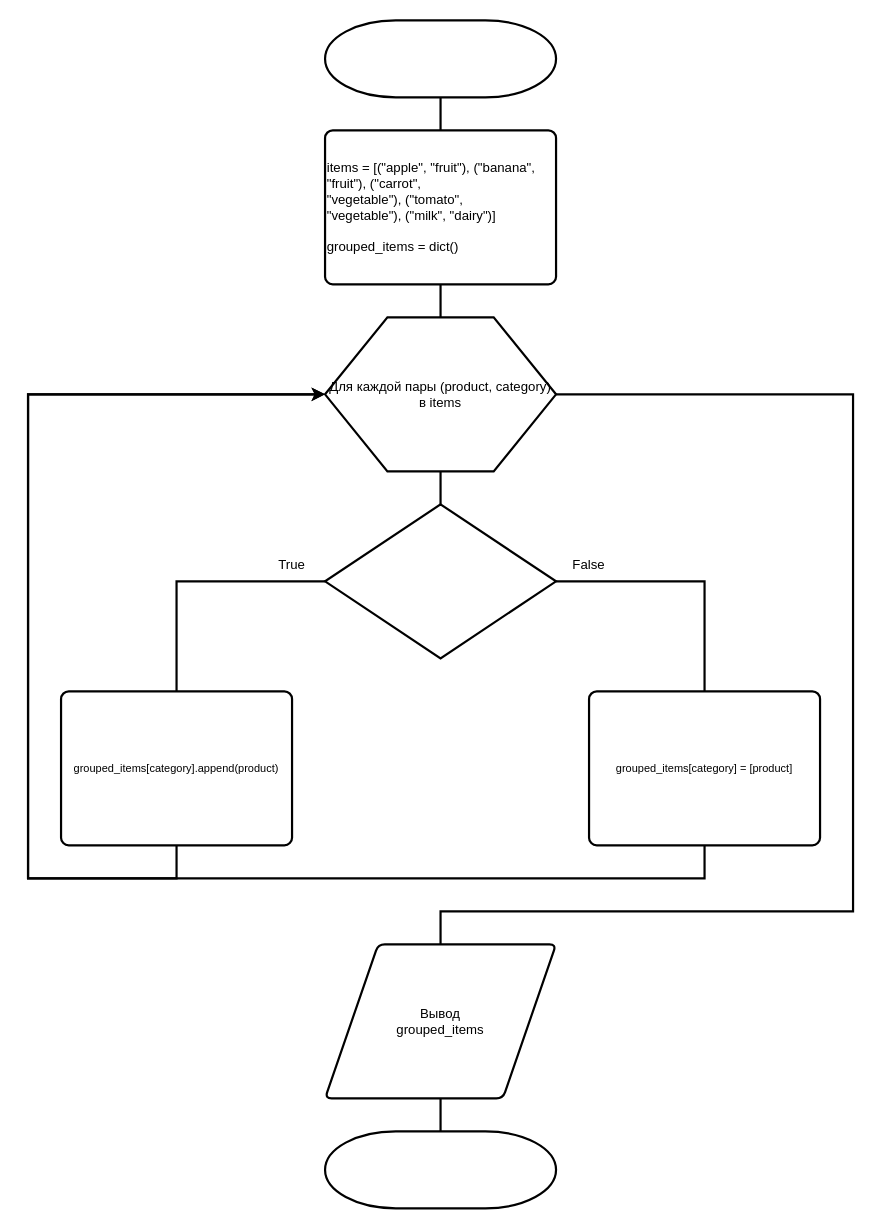
The diagram is 873 pixels wide and 1228 high, and some of its shapes have lost their labels. Each missing label, with the box of its shape:
category in grouped_items: (323, 503, 557, 659)
Конец: (323, 1130, 557, 1209)
Начало: (323, 19, 557, 98)
